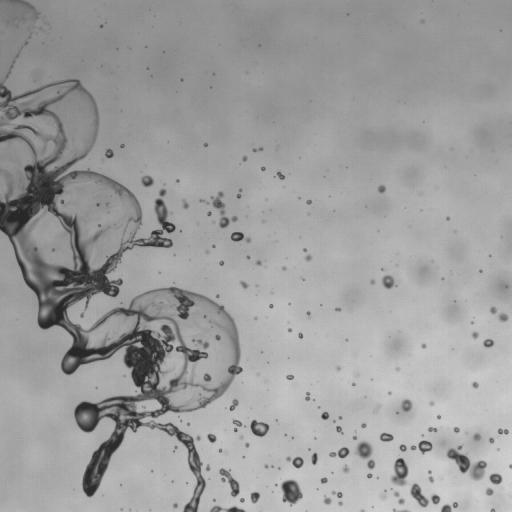droplet: (279, 479, 302, 505), (355, 441, 375, 469), (390, 458, 408, 486), (250, 419, 269, 436), (411, 440, 432, 453), (286, 456, 303, 468), (382, 275, 395, 289), (141, 175, 153, 187), (489, 473, 502, 484), (401, 399, 412, 411), (379, 432, 393, 441), (232, 419, 242, 431), (229, 399, 238, 410), (250, 492, 259, 503), (207, 433, 216, 443), (483, 339, 494, 347), (498, 313, 508, 321), (239, 280, 248, 288), (323, 495, 331, 504), (105, 149, 113, 157), (276, 171, 284, 179), (377, 185, 385, 193), (473, 433, 481, 441), (498, 428, 508, 434), (321, 412, 329, 419), (342, 465, 349, 473), (182, 199, 188, 208), (304, 254, 311, 261), (336, 426, 343, 433), (399, 444, 406, 451), (486, 488, 493, 495), (490, 306, 496, 314), (471, 332, 478, 338), (380, 493, 387, 499), (305, 392, 310, 400), (472, 382, 478, 388), (453, 427, 459, 433), (321, 477, 327, 483), (19, 16, 26, 21), (74, 126, 79, 133), (489, 437, 494, 443), (286, 375, 293, 379), (242, 156, 247, 161), (51, 246, 56, 251), (256, 260, 261, 265), (370, 279, 375, 284), (421, 343, 426, 348), (367, 473, 372, 478), (298, 332, 302, 338), (206, 465, 210, 471), (306, 200, 311, 204), (335, 307, 340, 311), (429, 401, 434, 405), (361, 423, 366, 427), (173, 503, 177, 508), (261, 166, 265, 170), (219, 261, 223, 265), (269, 304, 273, 308), (336, 366, 340, 370), (245, 443, 249, 447), (240, 498, 244, 502), (307, 311, 310, 316), (490, 508, 495, 511), (207, 212, 211, 215), (282, 266, 285, 270), (288, 328, 291, 332), (437, 415, 440, 419), (239, 435, 243, 438), (353, 435, 356, 439), (174, 446, 177, 450), (219, 449, 223, 452), (264, 465, 268, 468), (339, 501, 342, 505), (204, 143, 207, 146), (446, 217, 449, 220), (303, 248, 306, 251), (206, 250, 209, 253), (247, 256, 250, 259), (80, 313, 83, 316), (396, 367, 399, 370), (388, 391, 391, 394), (360, 509, 364, 511), (24, 42, 27, 44), (121, 144, 123, 147), (216, 295, 219, 297), (471, 321, 473, 324), (123, 374, 125, 377), (339, 416, 341, 419), (100, 25, 102, 27), (30, 26, 32, 28), (21, 46, 23, 48), (15, 159, 17, 161), (19, 162, 21, 164), (97, 216, 99, 218), (302, 278, 304, 280), (352, 383, 354, 385), (187, 423, 189, 425)
ligament: (0, 51, 242, 511), (446, 445, 486, 480), (211, 191, 237, 228), (0, 0, 39, 21), (410, 483, 440, 507), (219, 468, 239, 497), (329, 447, 349, 458), (209, 505, 245, 511), (231, 232, 251, 242), (441, 502, 458, 511), (393, 491, 404, 504), (311, 452, 317, 465), (373, 404, 380, 413), (332, 491, 342, 497), (428, 471, 433, 482), (236, 190, 241, 198), (200, 199, 208, 204), (253, 147, 262, 151), (428, 427, 437, 431), (393, 509, 409, 511), (509, 464, 511, 469)
